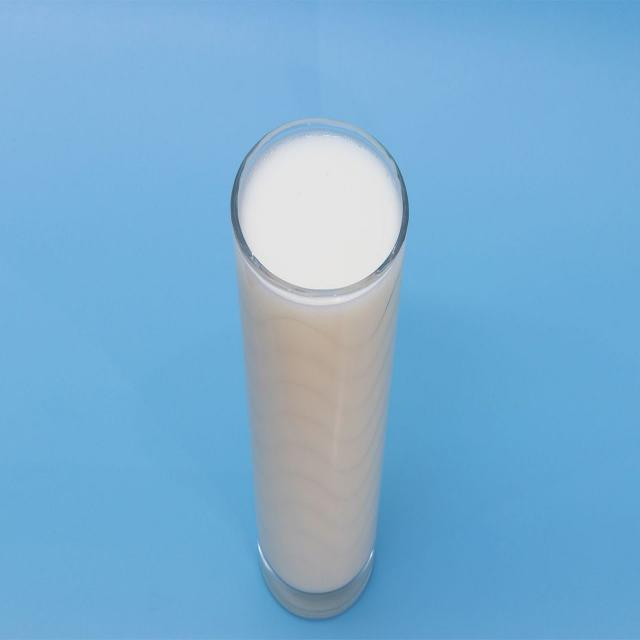milk: (238, 125, 404, 598)
